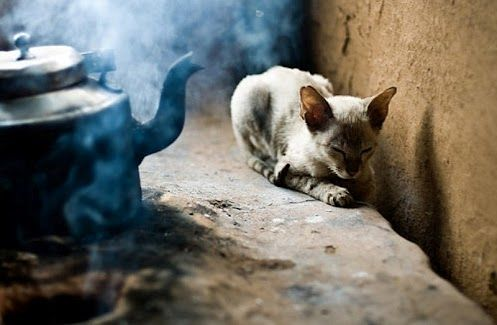cat: (224, 53, 408, 219)
